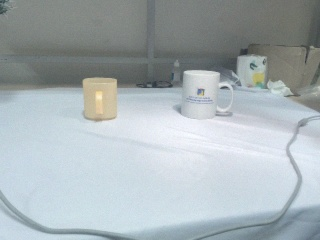box: (237, 44, 319, 97), (180, 69, 220, 121), (236, 53, 270, 89)
cup: (82, 76, 118, 122)
